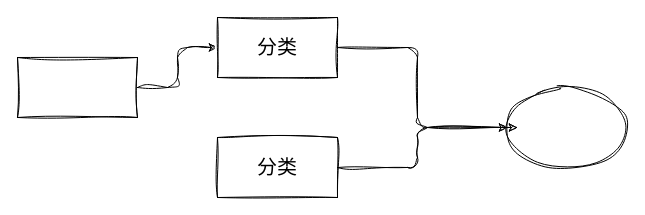
Some shapes in this 645 by 215 pixel diagram are drawn without their labels. The centre of each missing label's shape, as x and y in pixels:
记录: the point at 77,87
账户: the point at 567,127
